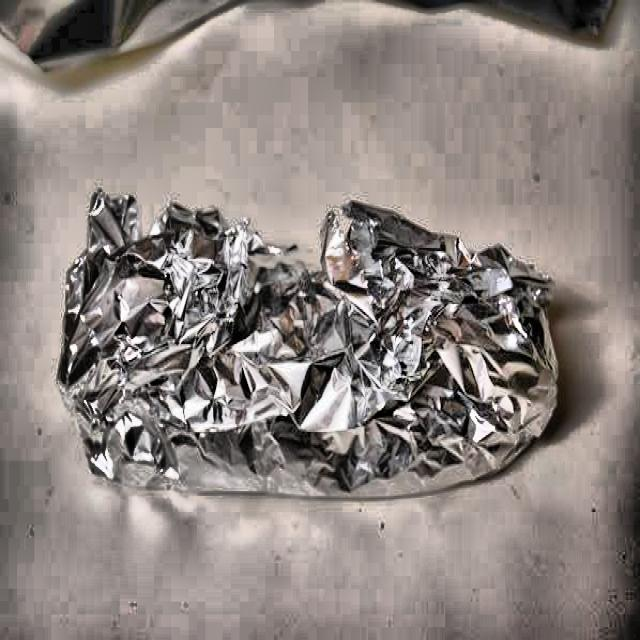Foil: (52, 180, 570, 507)
